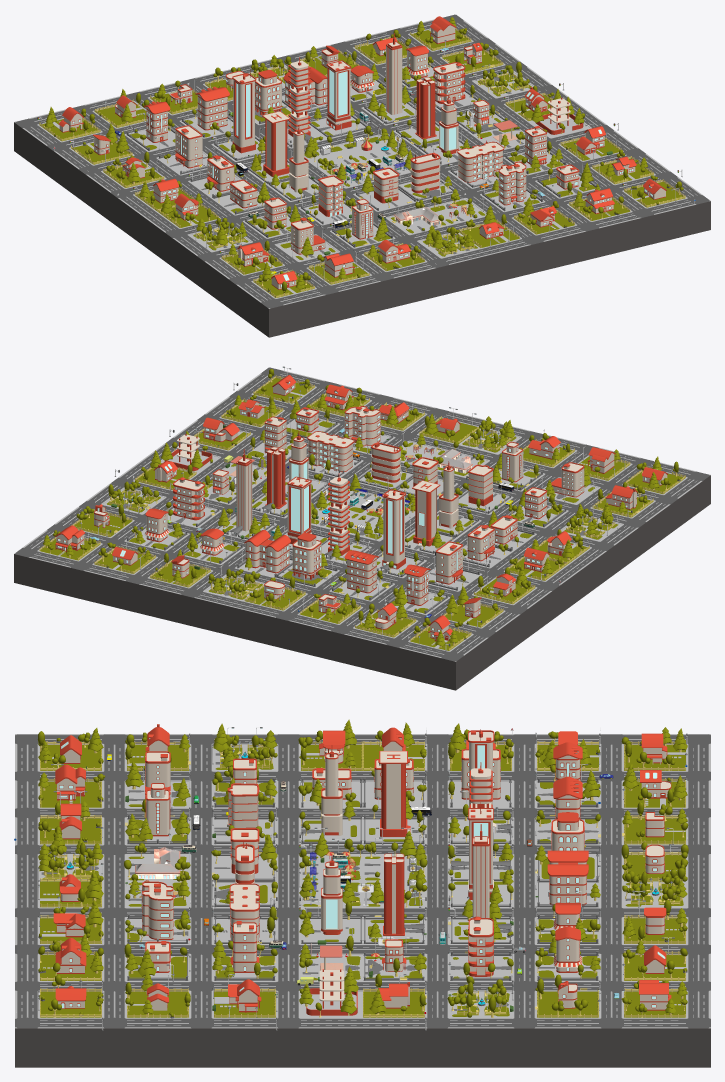
File: Fullfilled_City_FINAL_DRACO.glb
3 views of the same model, one above another, from view 1: azimuth 30°, elevation 25°; view 2: azimuth 150°, elevation 25°; view 3: azimuth 270°, elevation 25° (orthographic). The views are drawn at different scales.
Parts seen in each view (by area): view 1: FF_BaseSlab, BLD_c005, BLD_c008, BLD_c024, BLD_c003, BLD_c038, BLD_c033, BLD_a012, BLD_c011, BLD_a010, BLD_a003, BLD_c013 (+51 smaller); view 2: FF_BaseSlab, BLD_c005, BLD_a014, BLD_c008, BLD_c024, BLD_c038, BLD_c003, BLD_a003, BLD_c033, BLD_a010, BLD_a012, BLD_a013 (+46 smaller); view 3: FF_BaseSlab, BLD_c003, BLD_a014, BLD_a003, BLD_c011, BLD_c019, BLD_c033, BLD_c014, BLD_a010, BLD_c026, BLD_c024, PARK_Mahalle.002 (+98 smaller).
Part boxes in pixels (<box>): FF_BaseSlab: <box>14,66,710,337</box>; BLD_c005: <box>232,69,256,153</box>; BLD_c008: <box>326,57,351,130</box>; BLD_c024: <box>457,141,504,182</box>; BLD_c003: <box>262,111,290,177</box>; BLD_c038: <box>288,57,310,136</box>; BLD_c033: <box>386,33,402,114</box>; BLD_a012: <box>195,86,229,130</box>; BLD_c011: <box>415,77,436,139</box>; BLD_a010: <box>433,62,465,103</box>; BLD_a003: <box>498,161,526,205</box>; BLD_c013: <box>410,152,440,193</box>; FF_BaseSlab: <box>14,415,710,690</box>; BLD_c005: <box>382,485,405,569</box>; BLD_a014: <box>244,530,290,573</box>; BLD_c008: <box>287,473,311,544</box>; BLD_c024: <box>307,431,354,472</box>; BLD_c038: <box>328,473,349,555</box>; BLD_c003: <box>412,480,440,546</box>; BLD_a003: <box>344,406,380,446</box>; BLD_c033: <box>236,449,252,531</box>; BLD_a010: <box>173,477,204,520</box>; BLD_a012: <box>344,550,378,593</box>; BLD_a013: <box>292,532,321,579</box>; FF_BaseSlab: <box>15,807,710,1067</box>; BLD_c003: <box>379,751,410,837</box>; BLD_a014: <box>547,850,588,905</box>; BLD_a003: <box>142,881,173,939</box>; BLD_c011: <box>383,853,404,935</box>; BLD_c019: <box>321,745,342,835</box>; BLD_c033: <box>472,824,489,917</box>; BLD_c014: <box>321,853,342,934</box>; BLD_a010: <box>468,916,493,976</box>; BLD_c026: <box>227,783,259,828</box>; BLD_c024: <box>229,883,259,941</box>; PARK_Mahalle.002: <box>457,979,507,1015</box>.
Bounding box in the file's own units: 97.25 × 22.31 × 96.37.
Materials: 30 (19 with a texture image).
